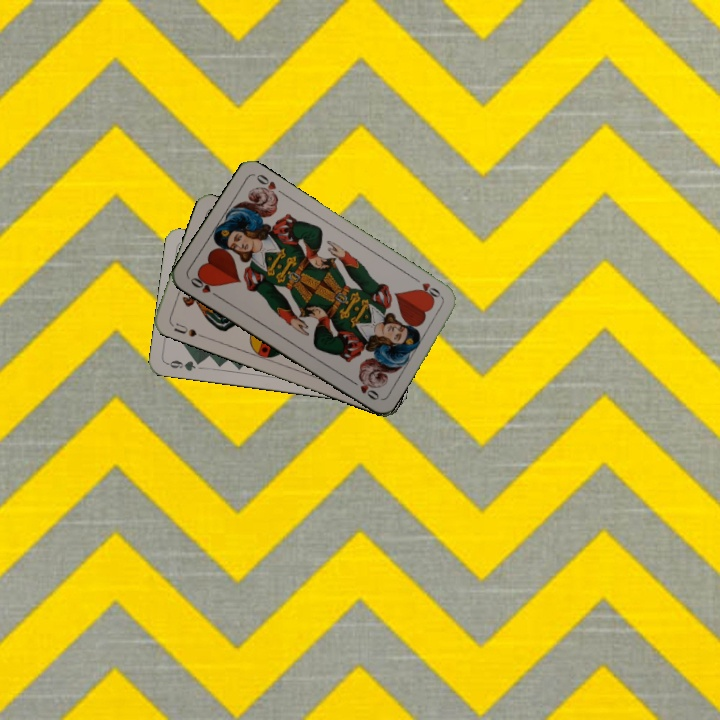G9: (163, 356, 204, 374)
HO: (186, 272, 222, 300), (413, 278, 446, 303)
SU: (167, 319, 206, 340)
